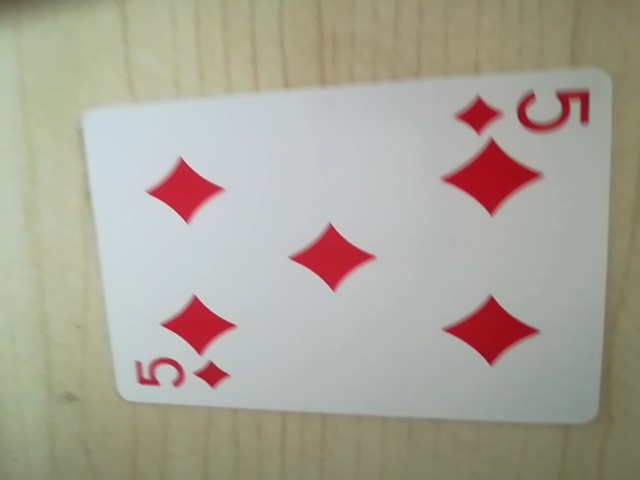fk 5: (450, 78, 594, 142), (124, 349, 236, 401)
